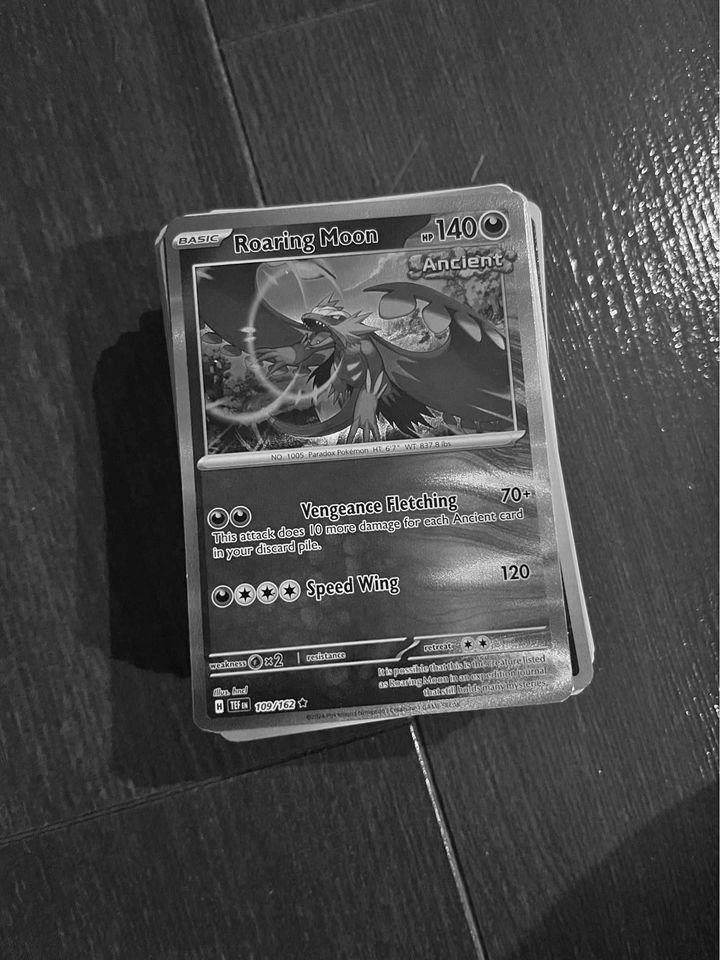card: (165, 189, 574, 733)
